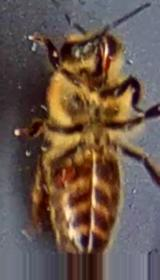varroa_mite: (48, 155, 88, 188)
